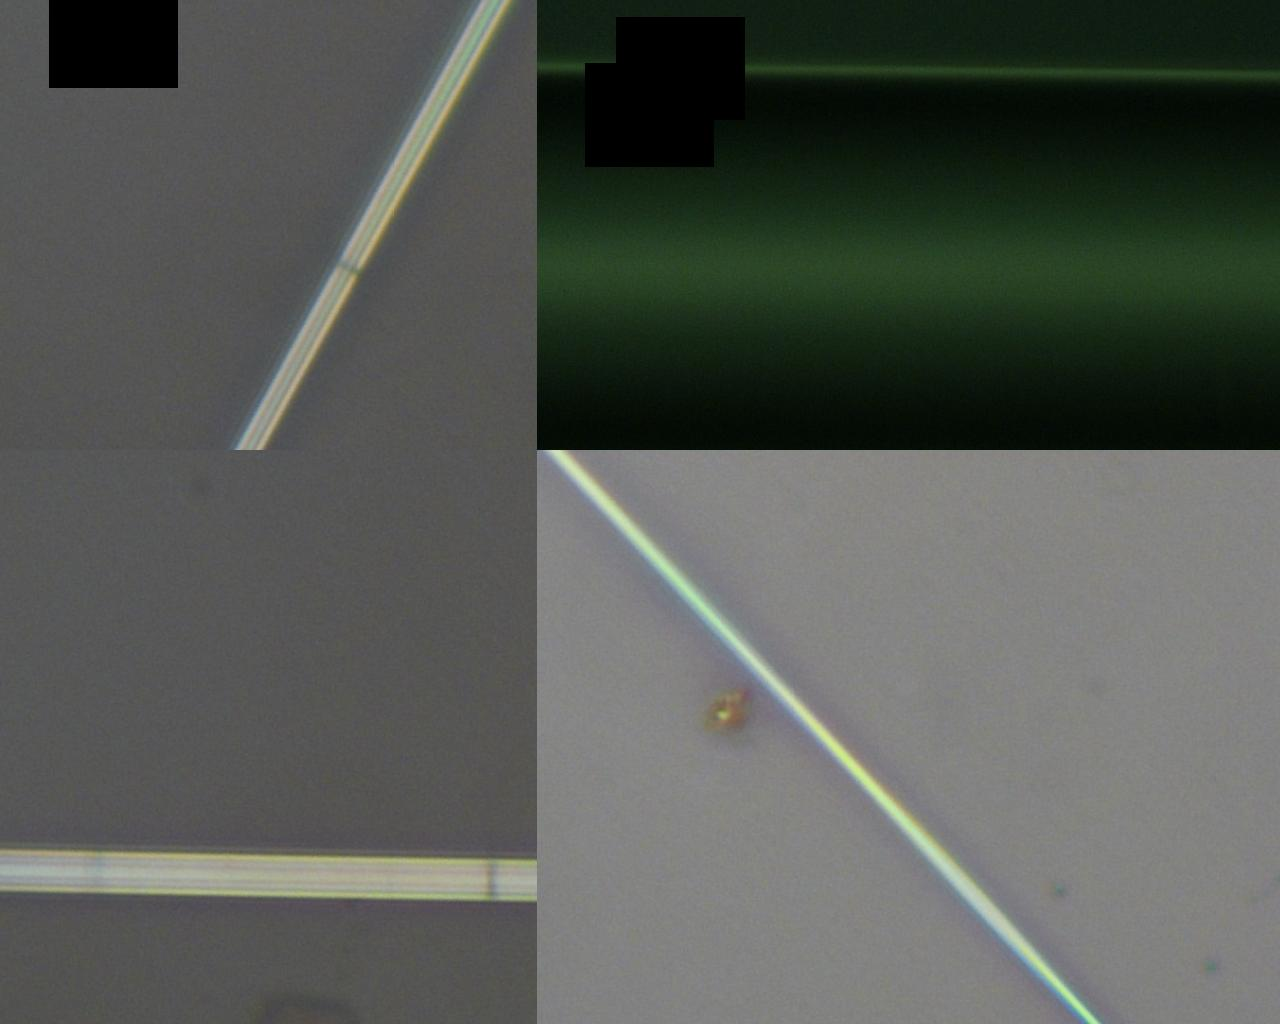fiber: (620, 0, 1029, 552), (332, 813, 1280, 837), (0, 135, 267, 192)
